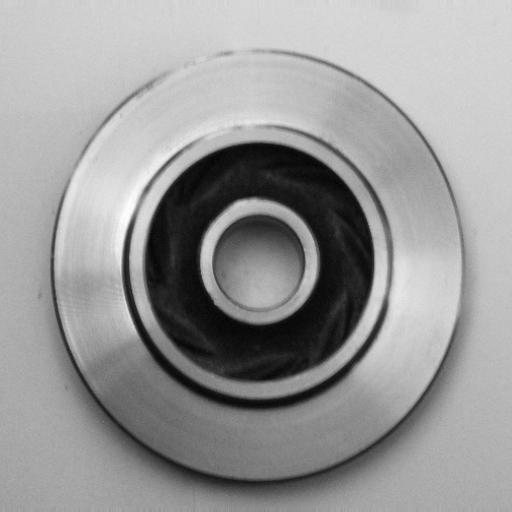scratch: (125, 45, 234, 102), (175, 109, 276, 160)
unpolished_casting: (45, 44, 468, 487)
